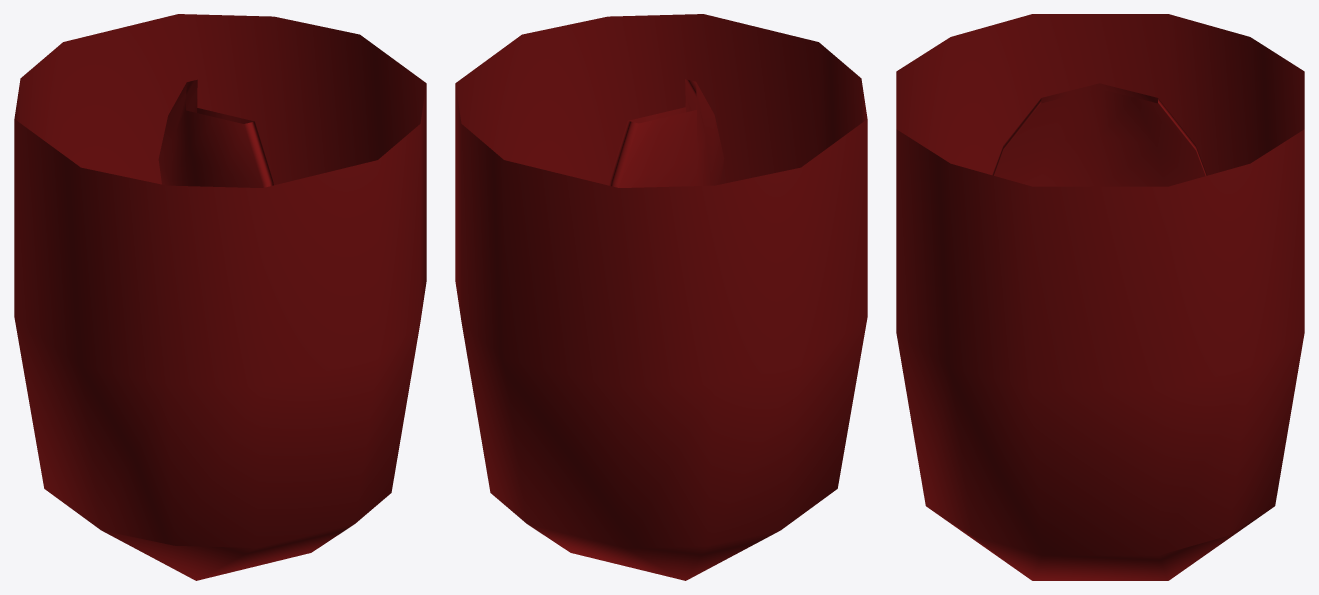
The model's file is Alarma.obj.
3 views of the same model, side by side, from view 1: azimuth 30°, elevation 25°; view 2: azimuth 150°, elevation 25°; view 3: azimuth 270°, elevation 25° (orthographic). The views are drawn at different scales.
Visible parts, largest first — view 1: pCube15 Alarma, Alarma Rotar; view 2: pCube15 Alarma, Alarma Rotar; view 3: pCube15 Alarma, Alarma Rotar.
Boxes of the visible parts, bbox=[...] form: pCube15 Alarma: bbox=[14, 14, 426, 580]; Alarma Rotar: bbox=[158, 79, 273, 187]; pCube15 Alarma: bbox=[455, 14, 867, 580]; Alarma Rotar: bbox=[608, 79, 724, 187]; pCube15 Alarma: bbox=[896, 14, 1304, 580]; Alarma Rotar: bbox=[992, 83, 1207, 186].
Size of the model in its own units: 29.17 by 35.61 by 29.17.
